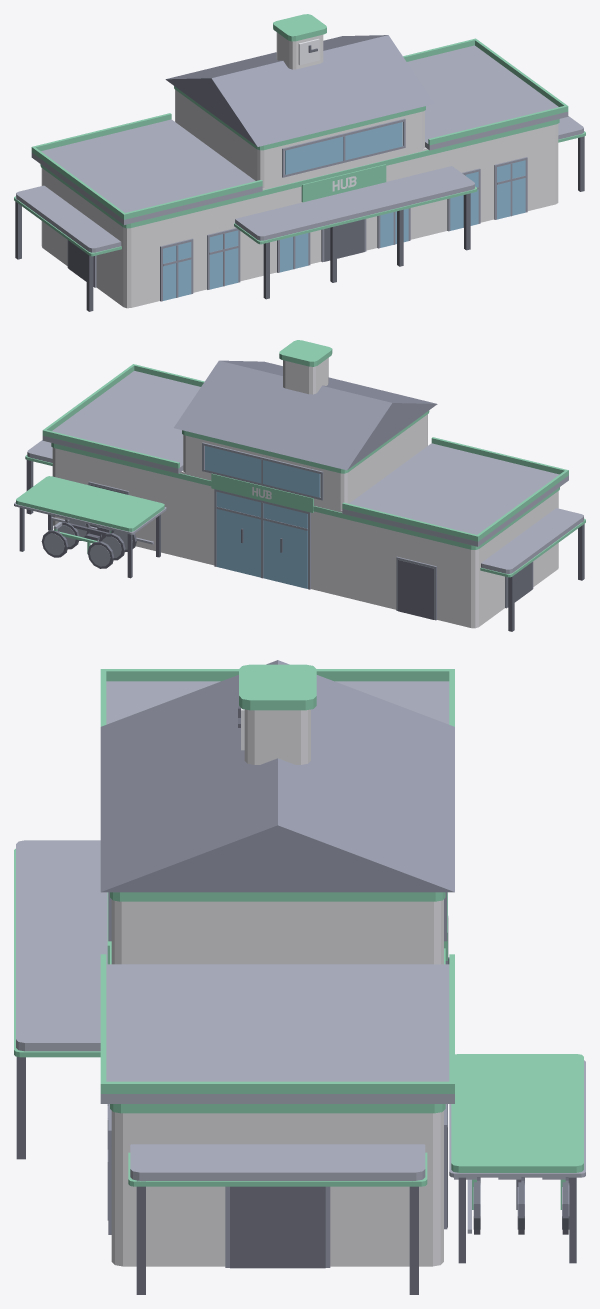
File: hub-3x2-tone-a.glb
The picture shows the model from 3 angles, top to bottom: view 1: azimuth 30°, elevation 25°; view 2: azimuth 150°, elevation 25°; view 3: azimuth 270°, elevation 25°; orthographic projection. The views are drawn at different scales.
Parts seen in each view (by area): view 1: hub-3x2-tone-a; view 2: hub-3x2-tone-a; view 3: hub-3x2-tone-a.
Boxes of the visible parts, x1,y1,x2,y2 form: hub-3x2-tone-a: [14, 14, 585, 311]; hub-3x2-tone-a: [14, 340, 585, 631]; hub-3x2-tone-a: [14, 660, 585, 1294].
Bounding box in the file's own units: 2.97 × 1.14 × 1.55.
Materials: 1 (1 with a texture image).
